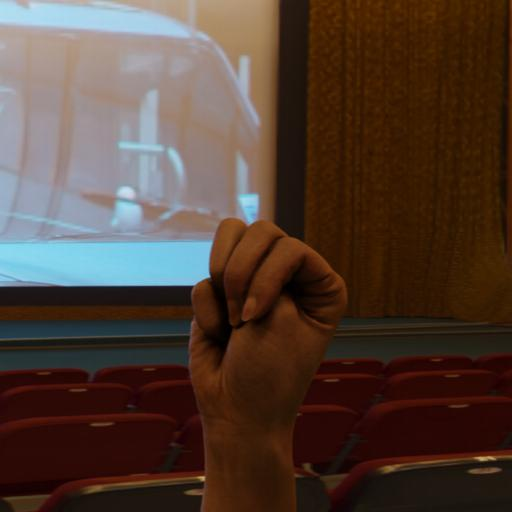M: (184, 212, 352, 431)
